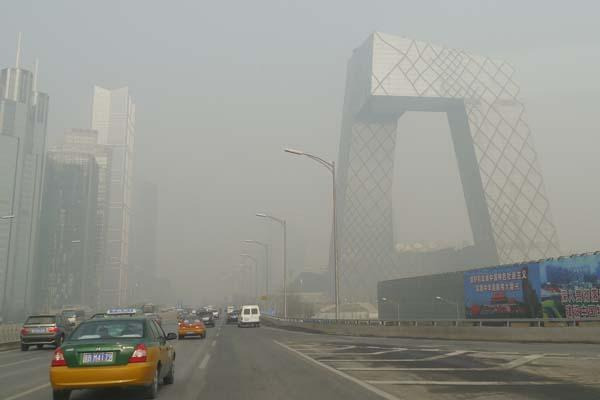bus: (141, 303, 159, 317), (226, 305, 236, 316)
car: (49, 308, 178, 400), (19, 314, 76, 351), (175, 313, 206, 339), (59, 309, 86, 334), (236, 305, 262, 328), (195, 310, 216, 327), (226, 312, 242, 324), (209, 308, 220, 319)
